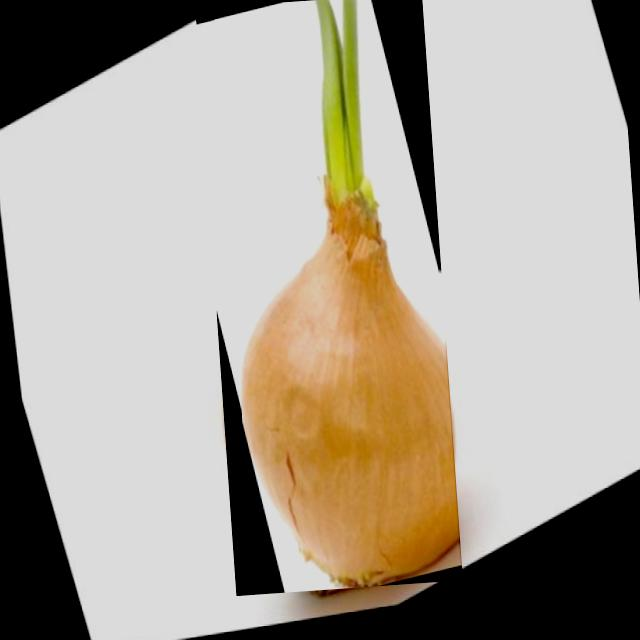sprouting: (241, 0, 457, 587)
